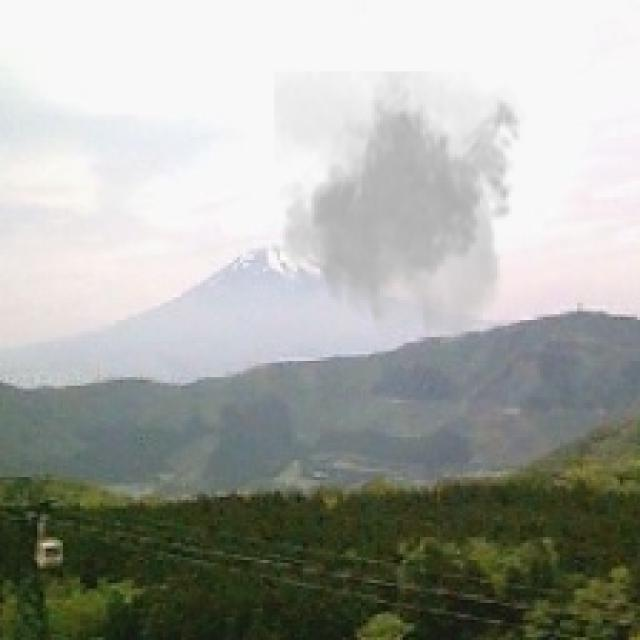smoke: (274, 72, 529, 348)
